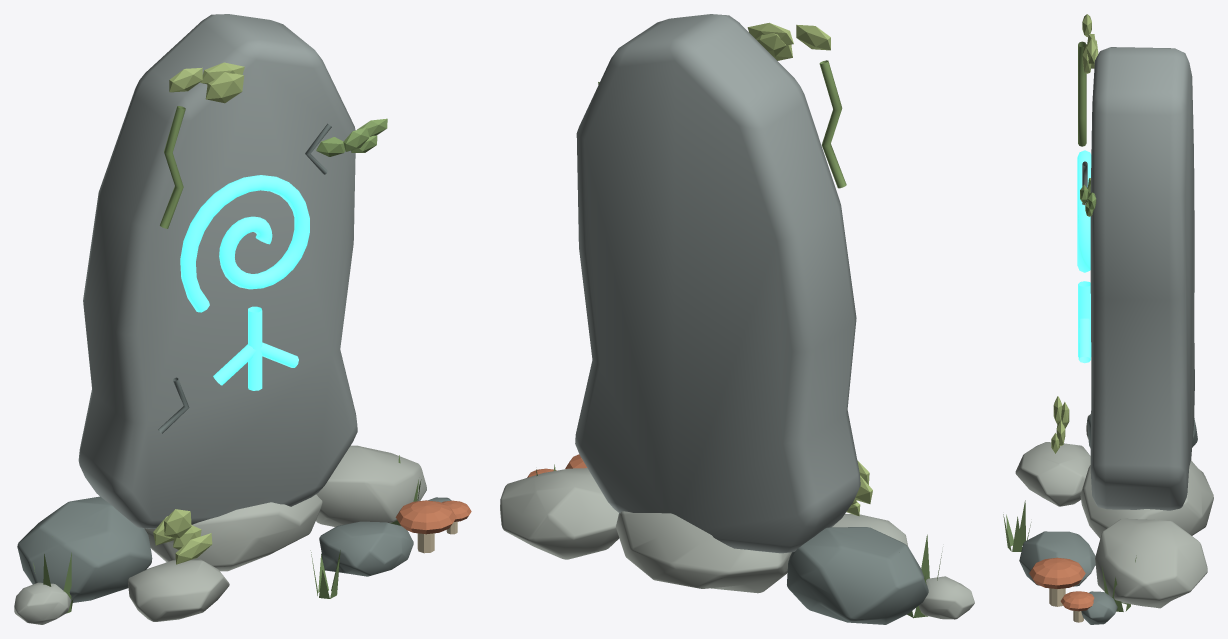
File: waypoint_cairn_v2.glb
3 renders of one model, left to right at view 1: azimuth 30°, elevation 25°; view 2: azimuth 150°, elevation 25°; view 3: azimuth 270°, elevation 25°, orthographic. The views are drawn at different scales.
Parts seen in each view (by area): view 1: Waystone_Monolith, Waystone_Base_L, Waystone_Rune_Spiral, Waystone_Base_R, Waystone_Base_C, Waystone_Base_FL, Waystone_Base_FR, Waystone_Pebble_L, Waystone_Mushroom_A_Cap, Waystone_Moss_Vine, Waystone_Rune_Road, Waystone_Moss_Crown_03 (+4 smaller); view 2: Waystone_Monolith, Waystone_Base_L, Waystone_Base_C, Waystone_Base_R, Waystone_Pebble_L, Waystone_Moss_Vine, Waystone_Base_FL, Waystone_Moss_Crown_02; view 3: Waystone_Monolith, Waystone_Base_R, Waystone_Base_FL, Waystone_Base_C, Waystone_Base_FR, Waystone_Mushroom_A_Cap, Waystone_Rune_Spiral, Waystone_Moss_Vine, Waystone_Pebble_R, Waystone_Grass_F, Waystone_Rune_Fork_R, Waystone_Mushroom_B_Cap (+1 smaller).
Part boxes in pixels (x1,y1,x2,y2): Waystone_Monolith: (78, 14, 357, 528); Waystone_Base_L: (17, 496, 152, 602); Waystone_Rune_Spiral: (180, 175, 309, 312); Waystone_Base_R: (316, 445, 426, 526); Waystone_Base_C: (144, 494, 322, 571); Waystone_Base_FL: (128, 559, 229, 621); Waystone_Base_FR: (319, 521, 413, 576); Waystone_Pebble_L: (14, 582, 71, 624); Waystone_Mushroom_A_Cap: (395, 500, 456, 534); Waystone_Moss_Vine: (160, 106, 185, 228); Waystone_Rune_Road: (248, 306, 262, 390); Waystone_Moss_Crown_03: (205, 72, 244, 103); Waystone_Monolith: (575, 14, 860, 553); Waystone_Base_L: (787, 527, 928, 624); Waystone_Base_C: (616, 511, 791, 593); Waystone_Base_R: (500, 468, 619, 559); Waystone_Pebble_L: (919, 576, 974, 619); Waystone_Moss_Vine: (819, 60, 846, 188); Waystone_Base_FL: (832, 514, 908, 546); Waystone_Moss_Crown_02: (796, 24, 830, 50); Waystone_Monolith: (1090, 47, 1194, 510); Waystone_Base_R: (1095, 518, 1207, 608); Waystone_Base_FL: (1015, 442, 1090, 506); Waystone_Base_C: (1080, 460, 1213, 538); Waystone_Base_FR: (1019, 531, 1095, 586); Waystone_Mushroom_A_Cap: (1029, 557, 1085, 588); Waystone_Rune_Spiral: (1077, 150, 1091, 272); Waystone_Moss_Vine: (1078, 41, 1086, 146); Waystone_Pebble_R: (1081, 591, 1117, 624); Waystone_Grass_F: (1003, 500, 1031, 551); Waystone_Rune_Fork_R: (1078, 318, 1090, 363); Waystone_Mushroom_B_Cap: (1060, 591, 1094, 611).
Bounding box in the file's own units: 2 × 2.31 × 0.8922.
